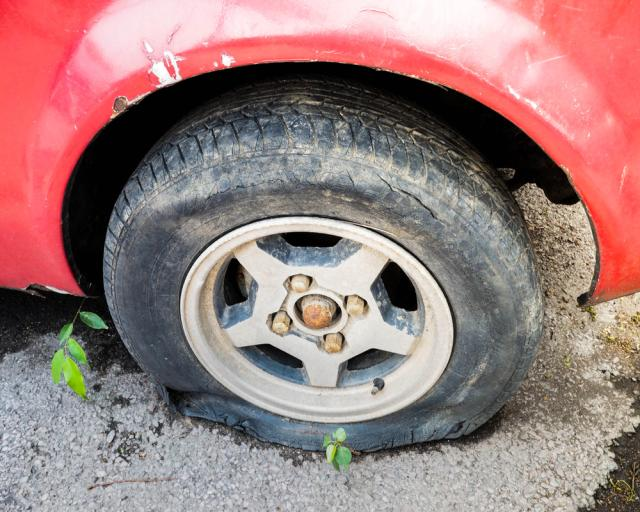scratch: (107, 27, 237, 117)
tire flat: (103, 77, 541, 453)
